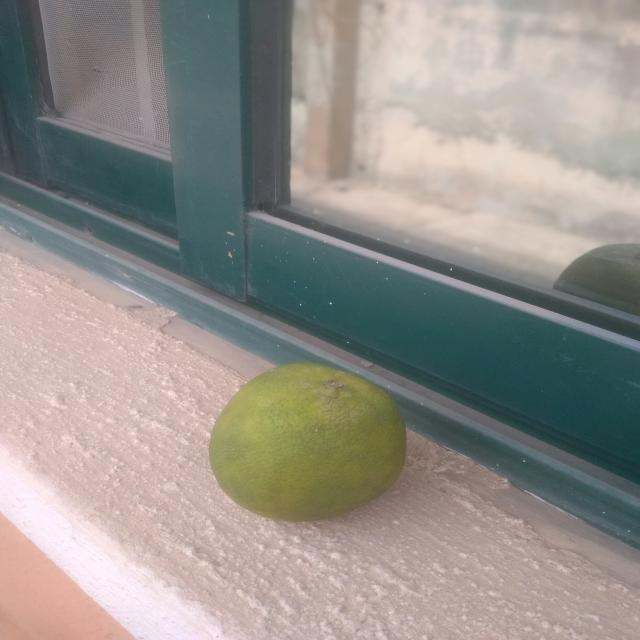agrume: (183, 344, 452, 532)
